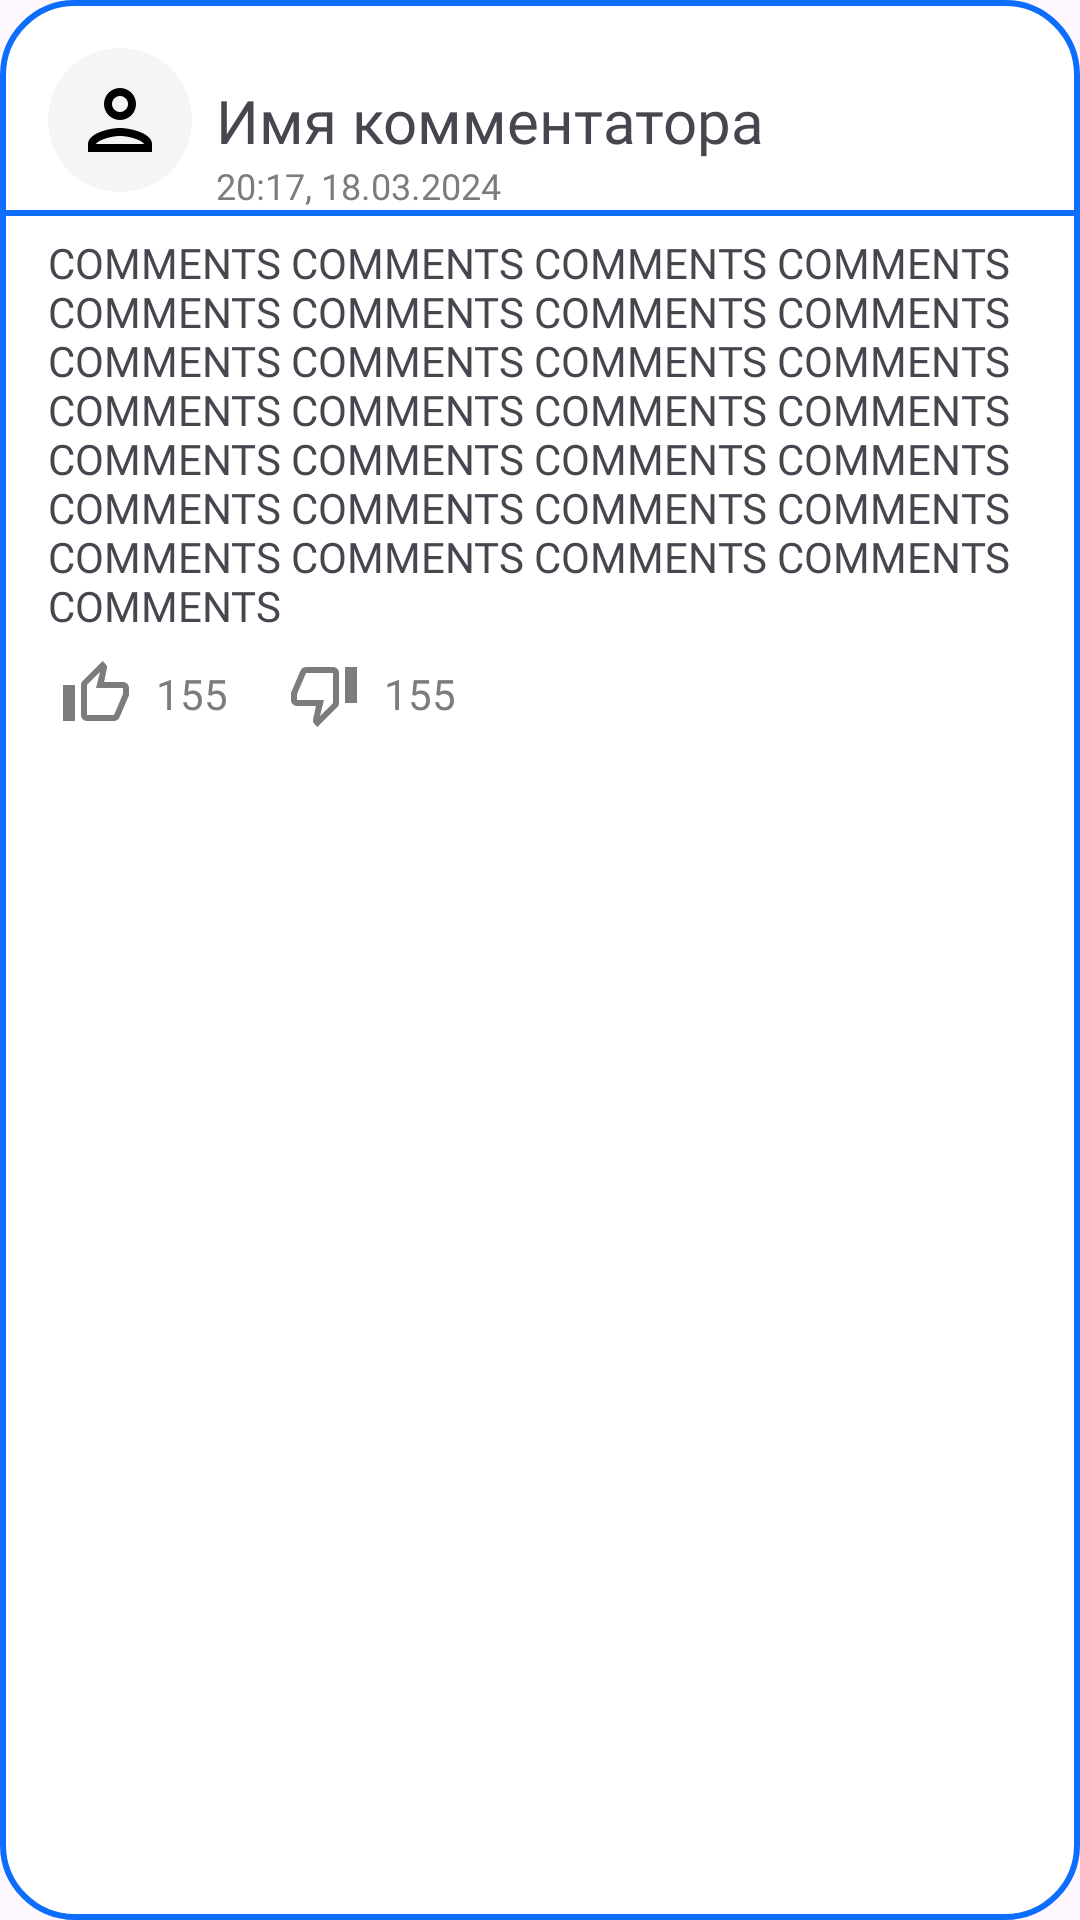

Locate icon controls on the screen. Image size 1080 × 1920, boxes as [left=x1, top=y1, right=x2, bottom=y2].
account: [left=48, top=48, right=192, bottom=192]
